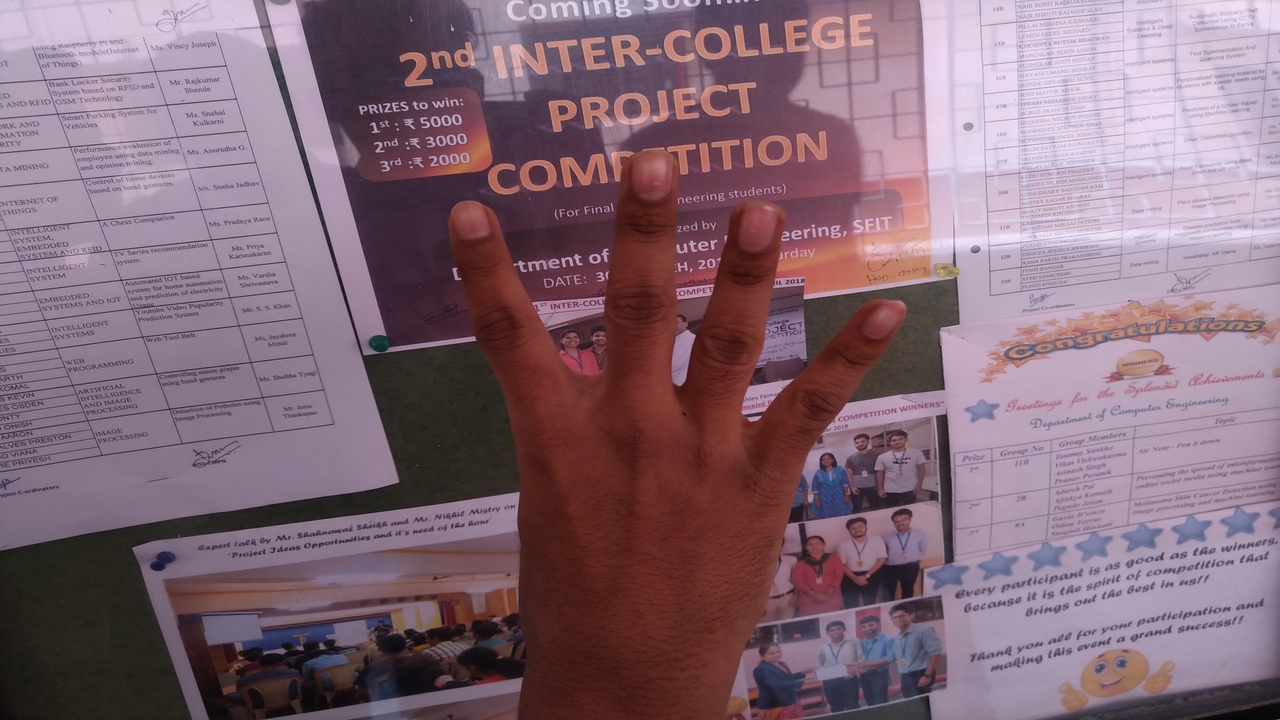fingertip: (620, 140, 684, 208), (726, 190, 788, 256), (444, 192, 502, 254), (852, 292, 914, 344)
